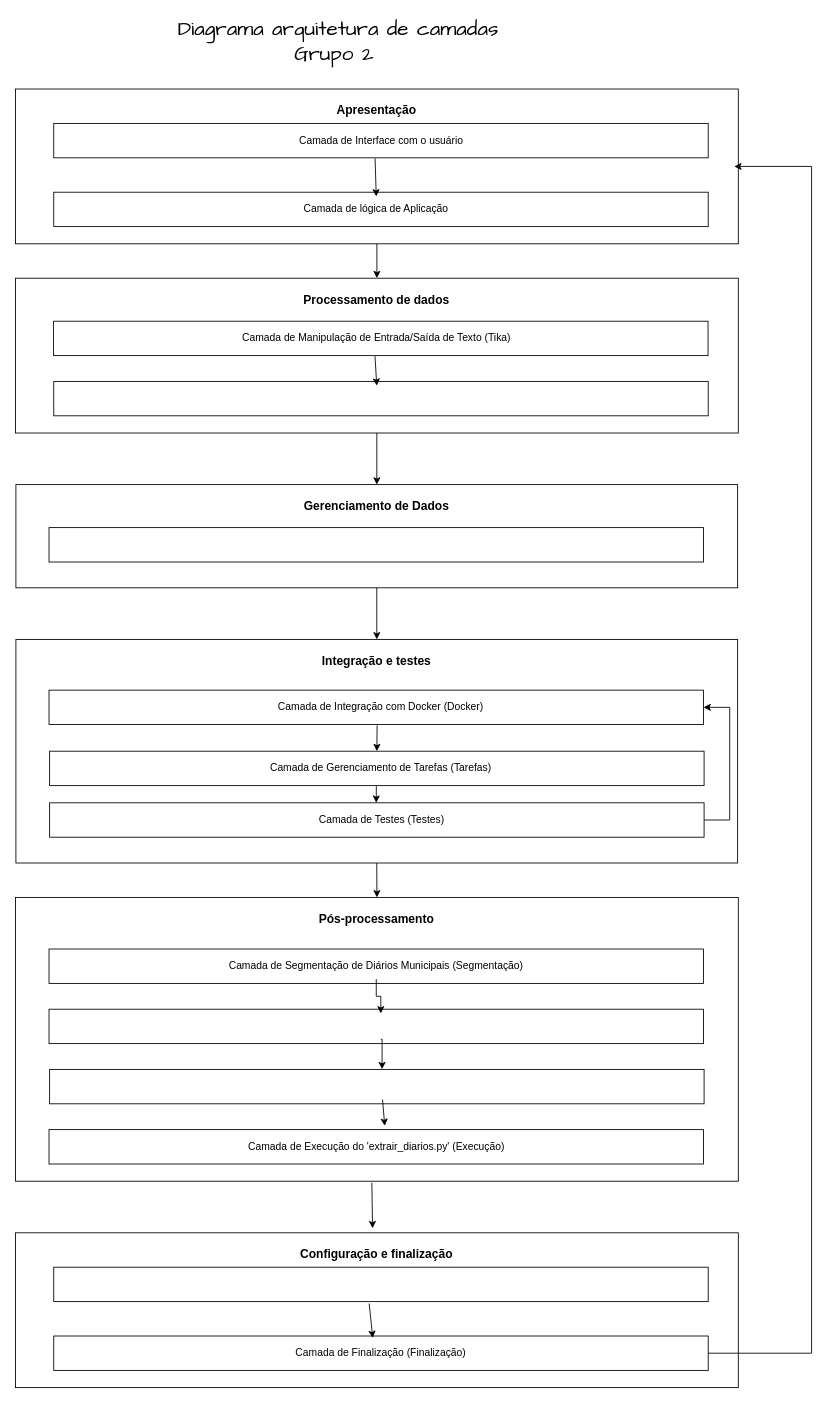
Some shapes in this 833 by 1403 pixel diagram are drawn without their labels. Here are the shapes that lost their labels. From the top down, the box of each, then its label:
(53, 381, 708, 416): Camada de Processamento Personalizado (post_proc.py)
(48, 527, 703, 562): Camada de Gerenciamento de Informação (Gerenciamento de Dados)
(48, 1008, 703, 1044): Camada de Extração de Atos (Extração de Atos)
(49, 1069, 704, 1104): Camada de Geração de Base de Análise (Base de Análise)
(53, 1266, 708, 1302): Camada de Configuração do Docker (Configuração Docker)
